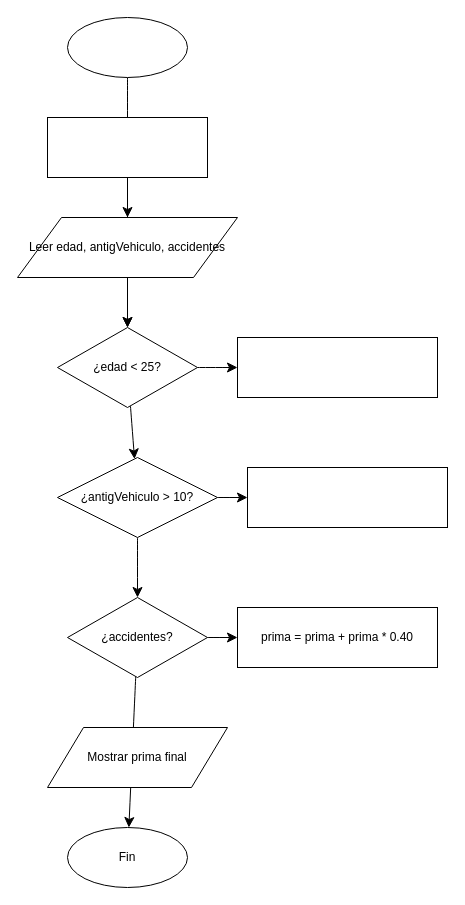
Image size: 465x905. Some labels were removed from this diagram. Each missing label, with the centre of its shape:
"Inicio" goes at point (127, 47).
"prima = 500000" goes at point (127, 147).
"prima = prima + prima * 0.30" goes at point (347, 497).
"prima = prima + prima * 0.50" goes at point (337, 367).
